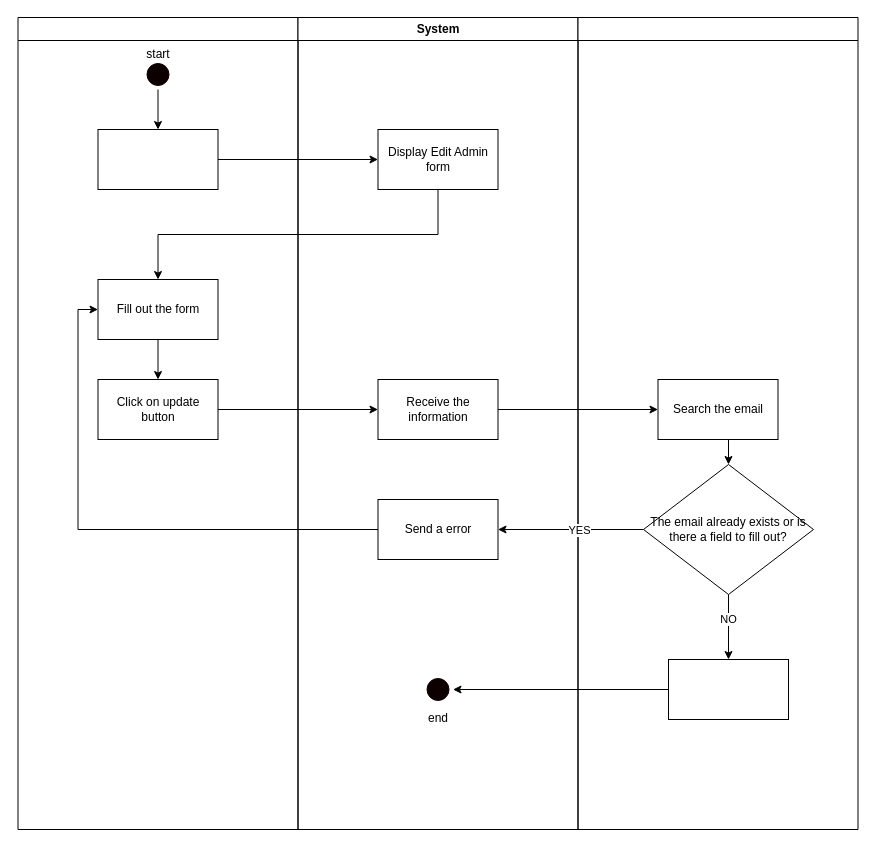
This 875x847 diagram has some shape labels left out. Here are the shapes that lost their labels. From the top down, the box of each, then its label:
(97, 128, 218, 190): Press Edit Button of one user
(17, 16, 298, 830): Admin
(577, 16, 858, 830): Database
(668, 658, 788, 720): Update admin user through your ID
